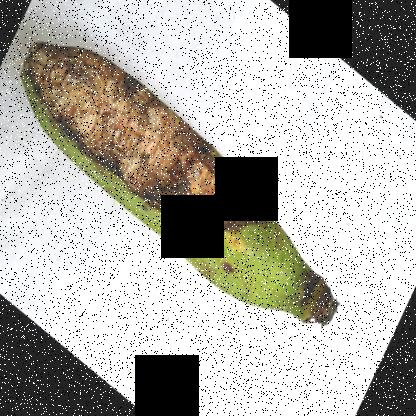rotten: (13, 28, 288, 255)
